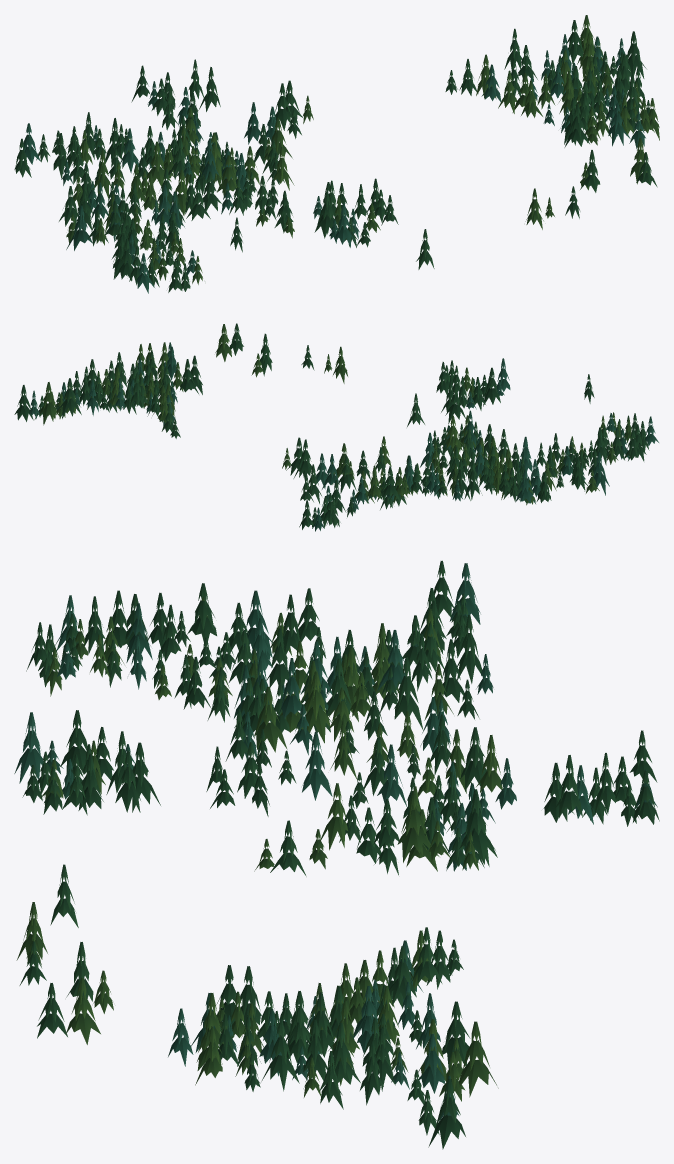
The picture shows the model from 3 angles, top to bottom: view 1: azimuth 30°, elevation 25°; view 2: azimuth 150°, elevation 25°; view 3: azimuth 270°, elevation 25°; orthographic projection. The views are drawn at different scales.
Parts seen in each view (by area): view 1: pf_1; view 2: pf_1; view 3: pf_1.
Boxes of the visible parts, x1,y1,x2,y2 form: pf_1: [14, 15, 659, 293]; pf_1: [14, 323, 658, 531]; pf_1: [14, 560, 659, 1149].
Bounding box in the file's own units: 222 × 37.56 × 129.
Materials: 1 (1 with a texture image).
